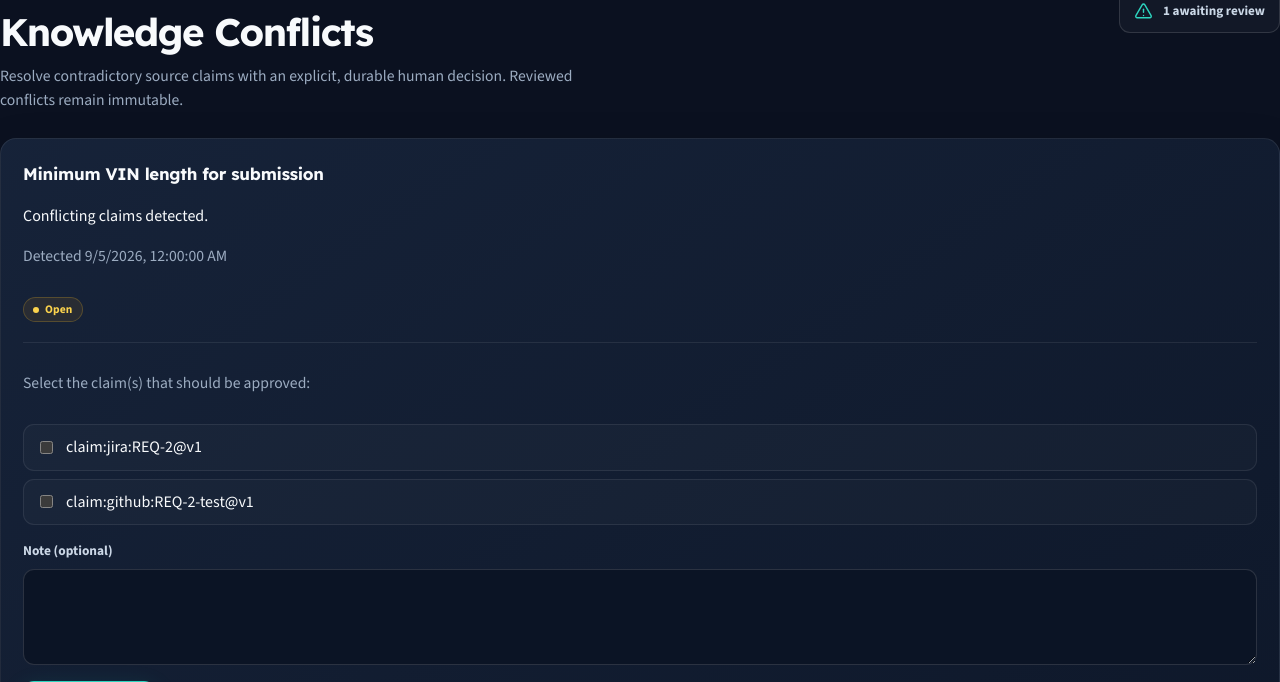
Test case: ConflictsPage › submits a review with the selected claim(s) and note, then reflects the reviewed status
Expected: the text "claim:jira:REQ-2@v1" is shown, [23,424,1257,471]
Click the checkbox labelled "claim:jira:REQ-2@v1". click: (46, 447)
box: [40,441,53,454]
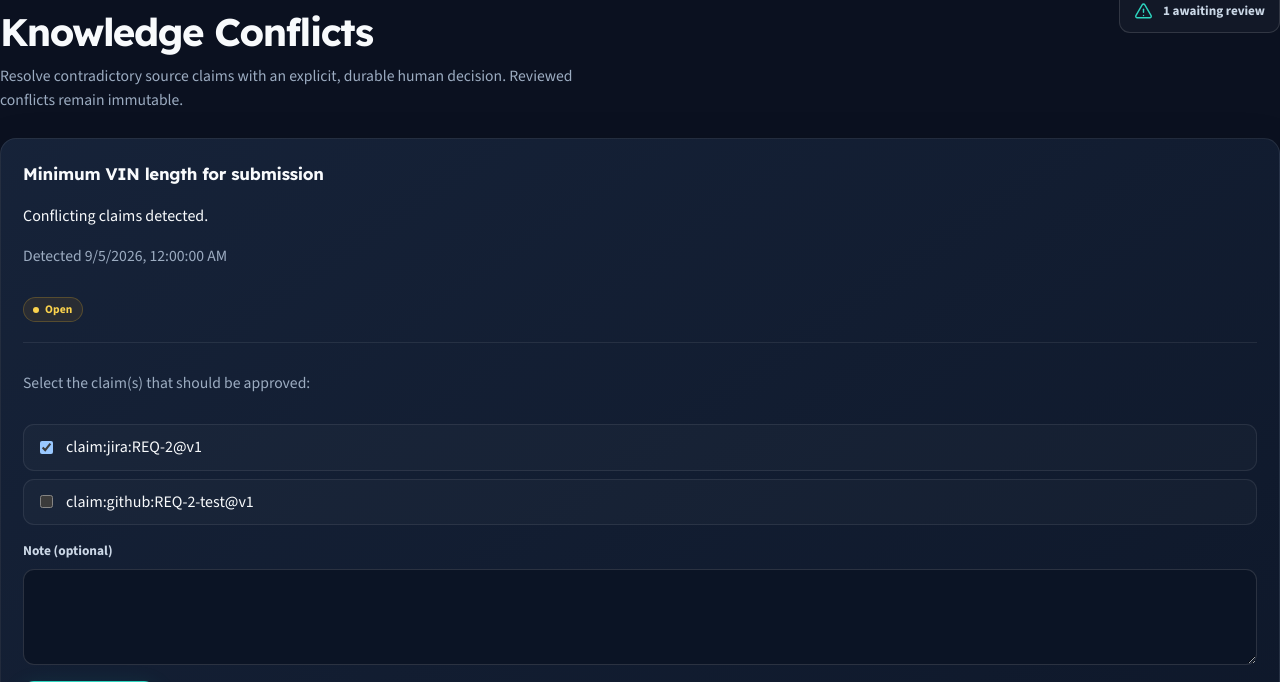
Type "Confirmed with product owner." into the text box labelled "Note (optional)". click: (640, 617)
box: [23,569,1257,665]
(page scrolled)
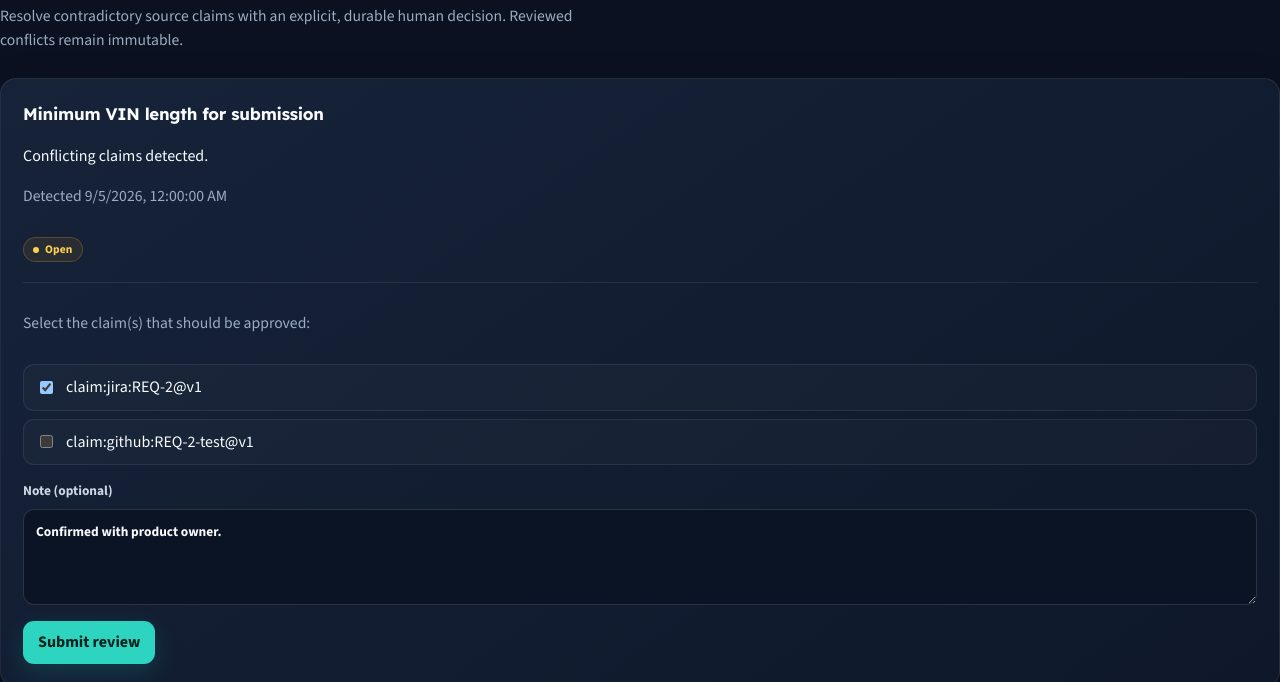
Click the button "Submit review". click: (89, 643)
box: [23,621,155,664]
(page scrolled)
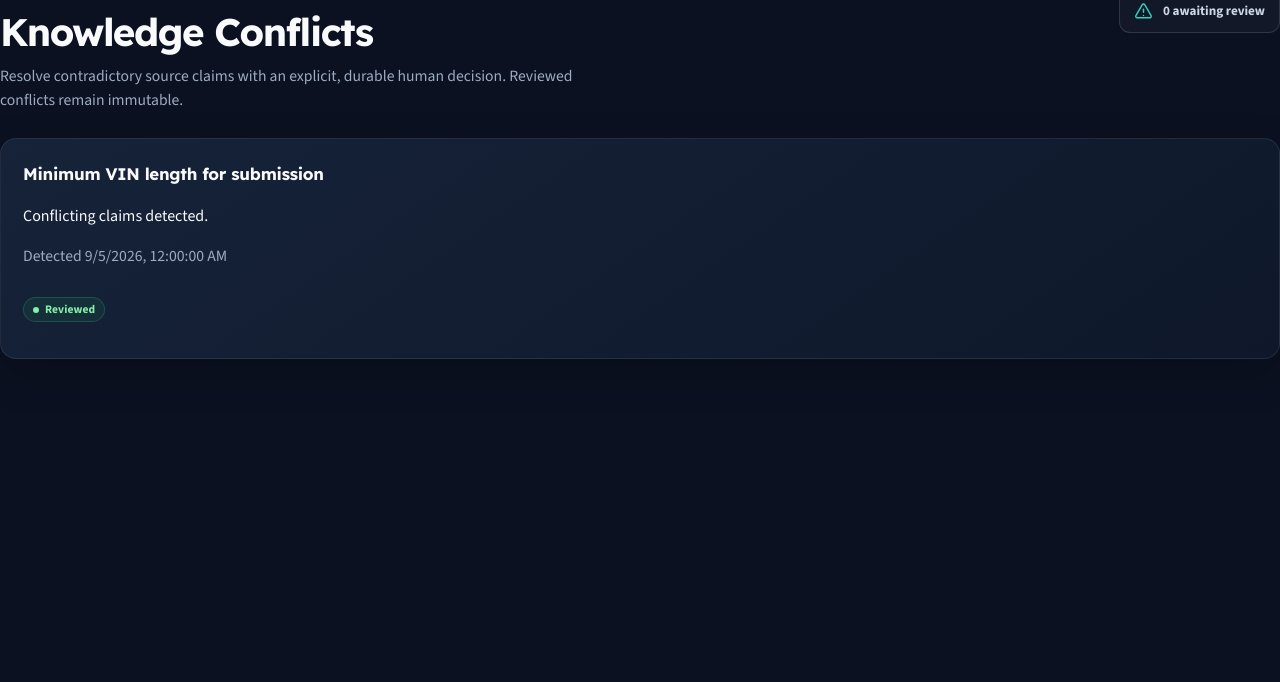
Expected: the text "Reviewed" is shown, [23,297,105,322]
Expected: the checkbox is gone
